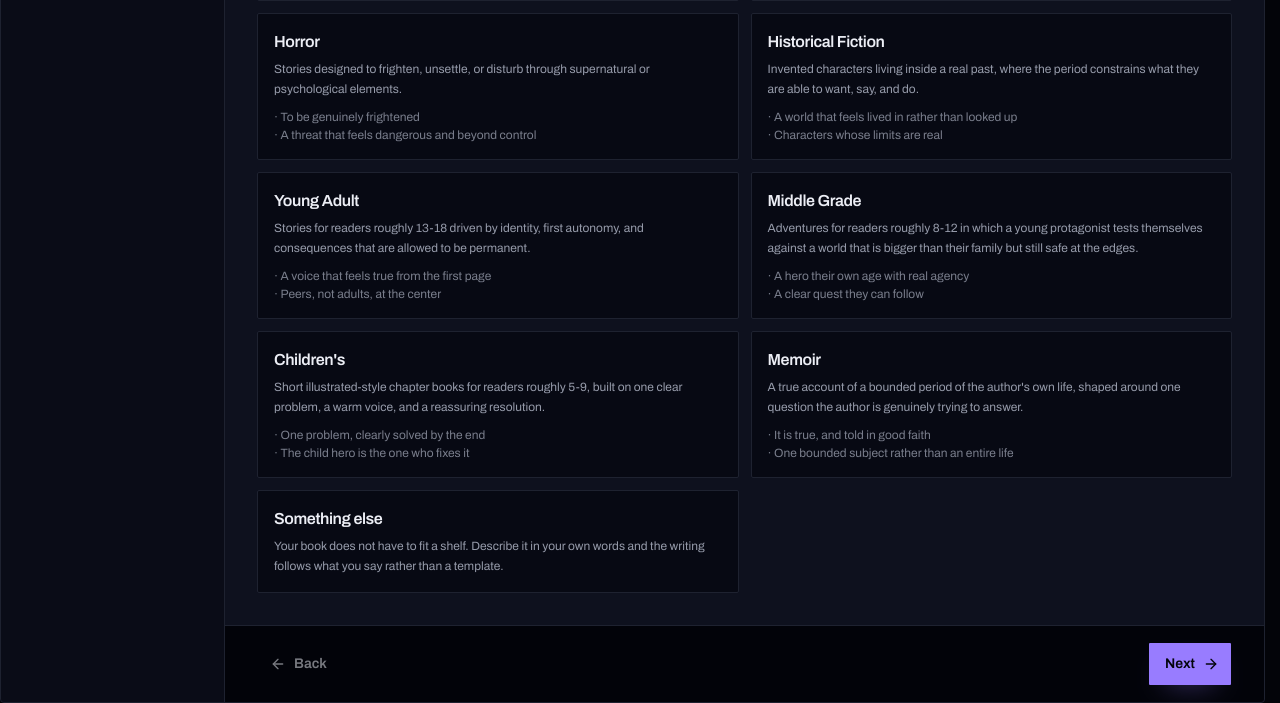
Scenario: NewBookWizard › carries an owned included story into a separate full-length setup on Step 1
(page scrolled)
Click the button "Next" at (1190, 664), box [1148,642,1232,686]
(page scrolled)
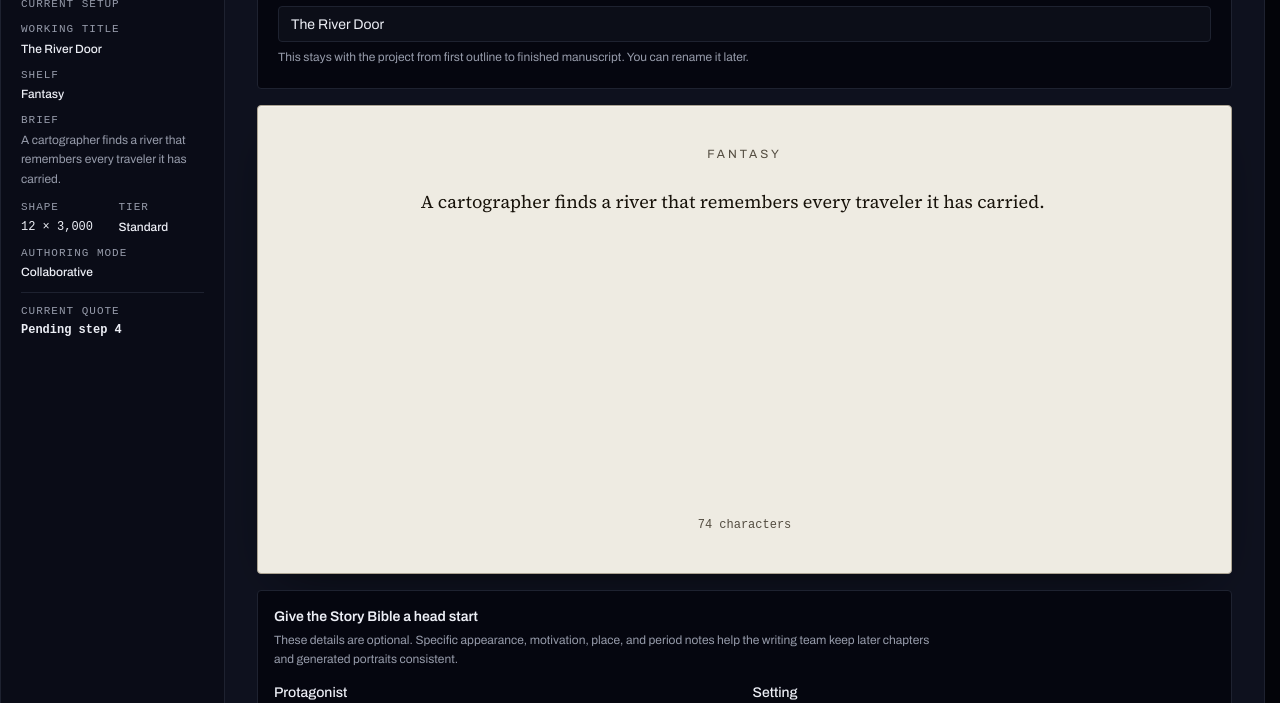
Expected: the field labelled "Working title" holds "The River Door", [278,6,1211,42]
Expected: the text box named "Your brief" holds "A cartographer finds a river that remembers every traveler it has carried.", [421,186,1068,501]
